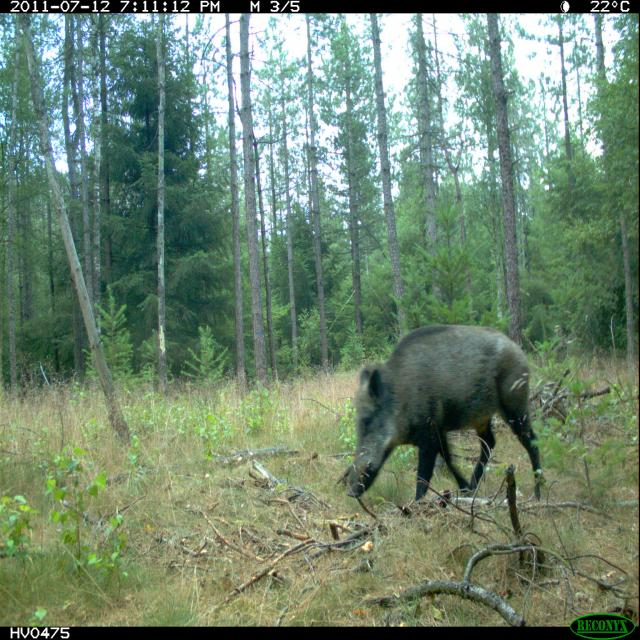boar: (318, 297, 558, 561)
